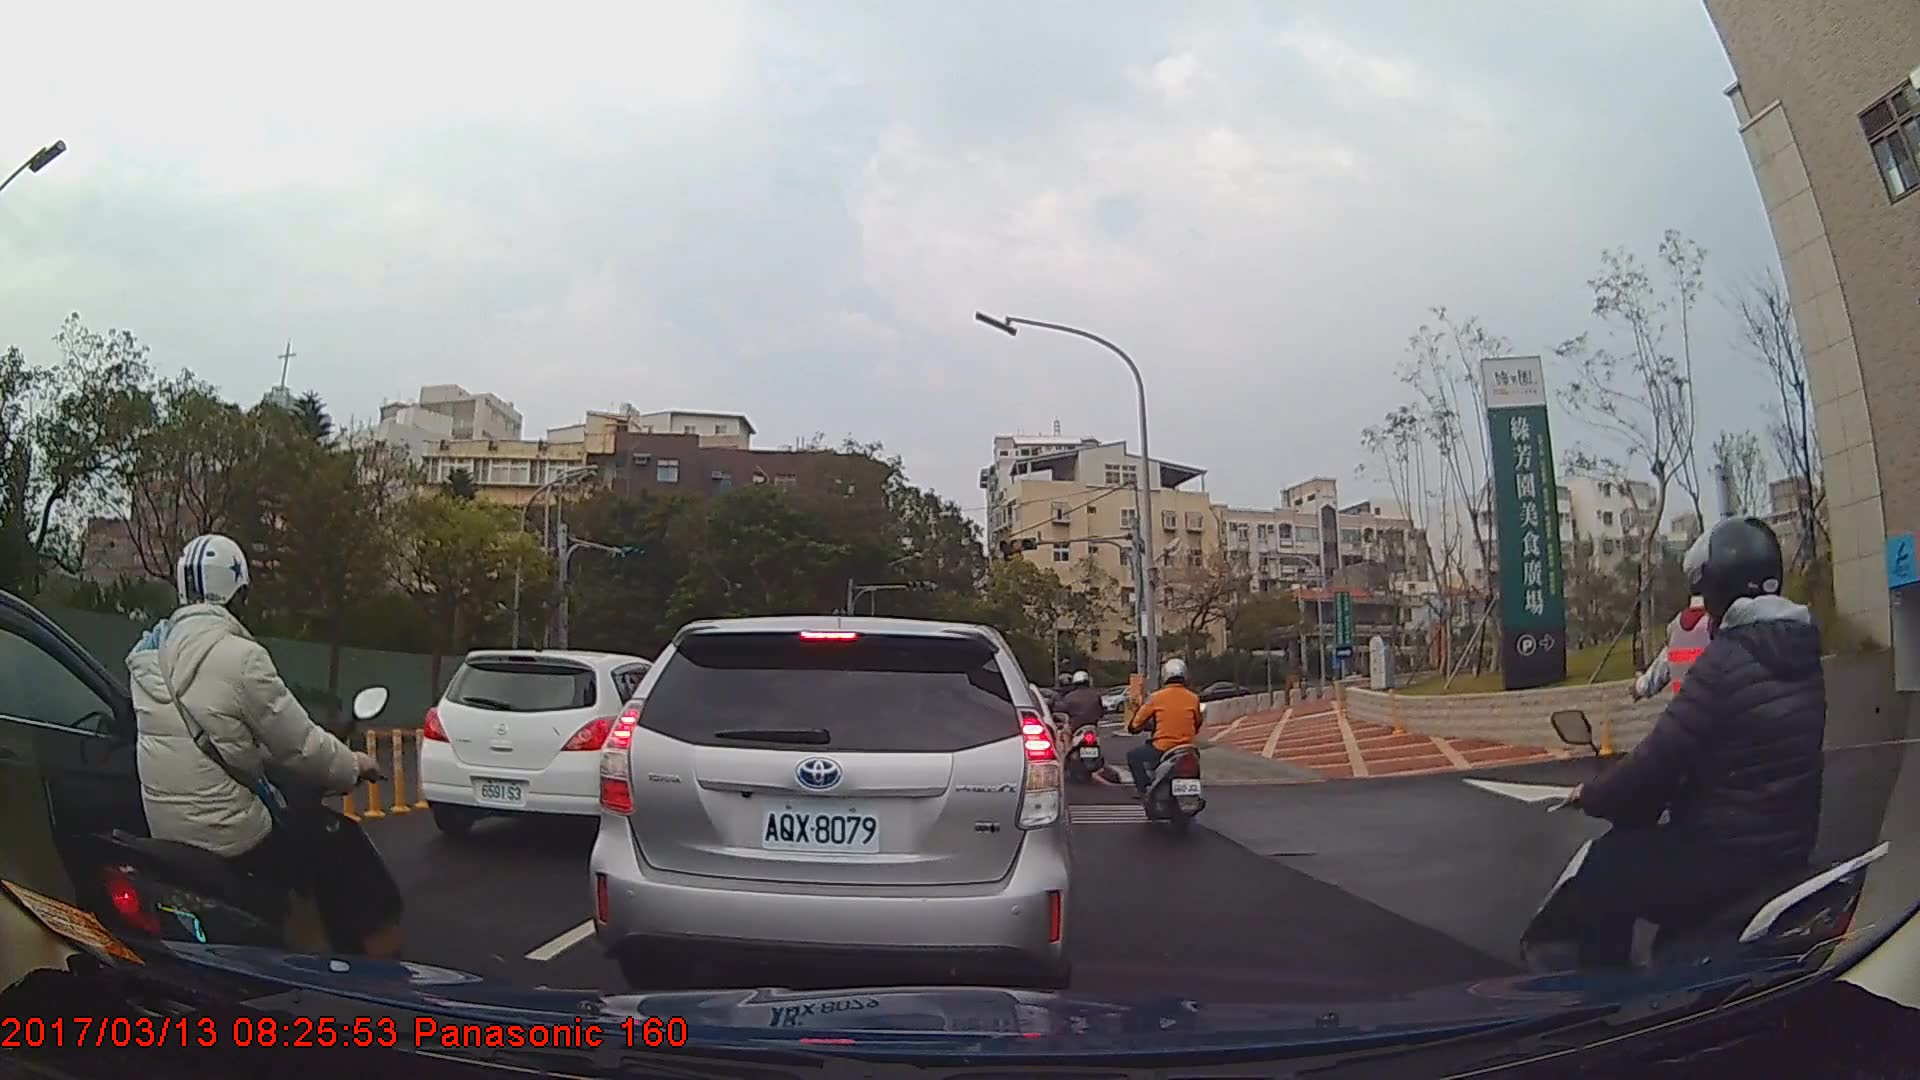rider: (1519, 516, 1888, 1037), (90, 535, 411, 1057), (1124, 652, 1214, 833), (1060, 666, 1108, 785)
vehicle: (584, 614, 1075, 986), (418, 648, 698, 842), (1183, 678, 1252, 714)
